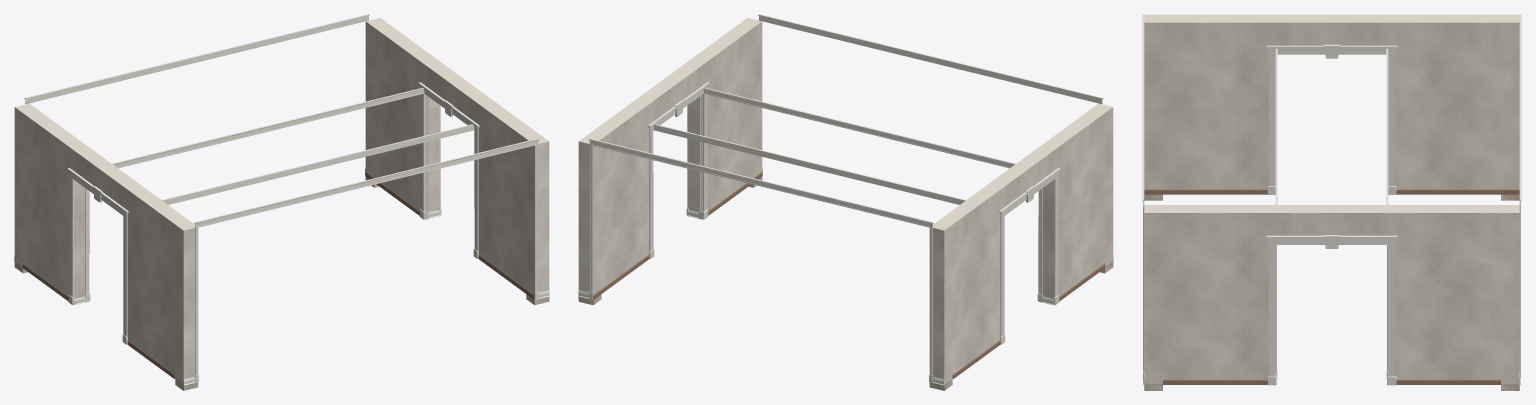
The model's file is plan.glb.
3 views of the same model, side by side, from view 1: azimuth 30°, elevation 25°; view 2: azimuth 150°, elevation 25°; view 3: azimuth 270°, elevation 25° (orthographic). The views are drawn at different scales.
Visible parts, largest first — view 1: plan_plaster, molduras, plan_trim, plan_base; view 2: plan_plaster, molduras, plan_trim, plan_base; view 3: plan_plaster, plan_trim, molduras, plan_base, plan_stone.
Part boxes in pixels (x1=…): plan_plaster: x1=14, y1=18, x2=549, y2=384; molduras: x1=14, y1=14, x2=549, y2=385; plan_trim: x1=67, y1=82, x2=479, y2=344; plan_base: x1=22, y1=171, x2=534, y2=378; plan_plaster: x1=578, y1=18, x2=1113, y2=384; molduras: x1=578, y1=14, x2=1113, y2=385; plan_trim: x1=648, y1=82, x2=1060, y2=344; plan_base: x1=593, y1=171, x2=1105, y2=378; plan_plaster: x1=1144, y1=14, x2=1519, y2=384; plan_trim: x1=1266, y1=44, x2=1397, y2=385; molduras: x1=1142, y1=14, x2=1521, y2=384; plan_base: x1=1144, y1=189, x2=1519, y2=384; plan_stone: x1=1144, y1=194, x2=1519, y2=390.
Size of the model in its own units: 10.12 by 4.34 by 8.08.
4 materials, 2 textured.
